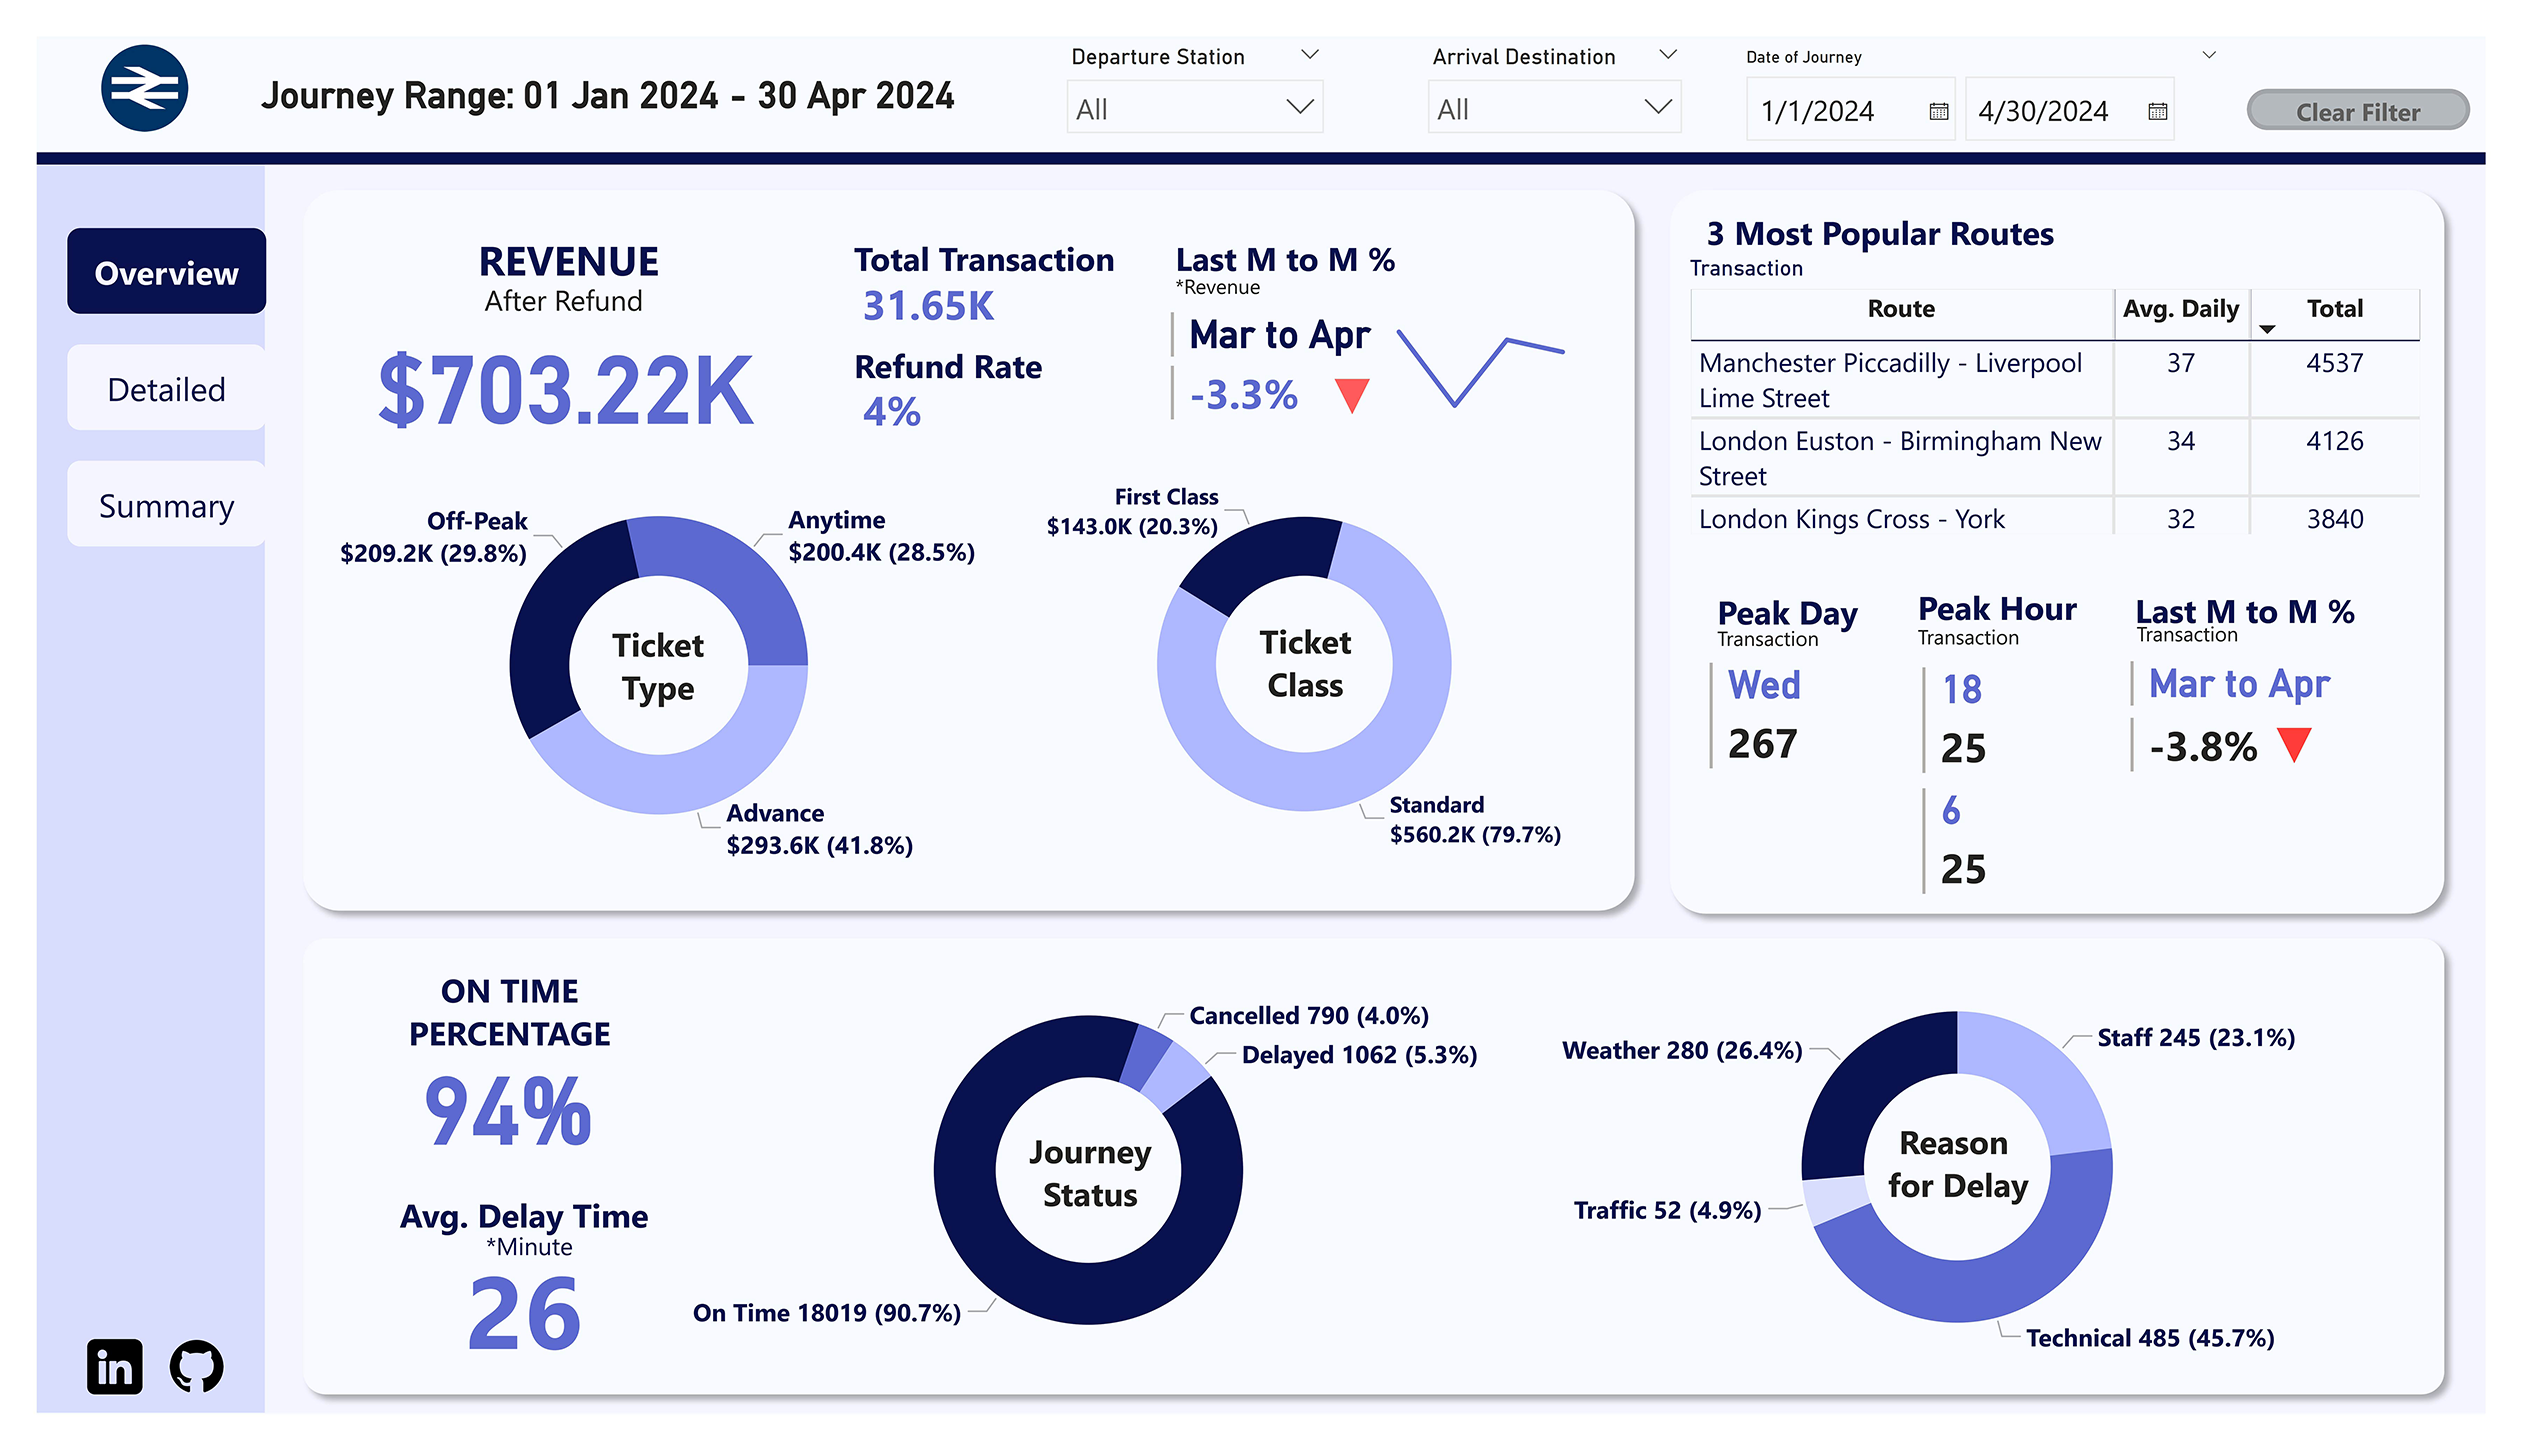

The page's visual inventory and layout, read from the dashboard file:
{"tool":"powerbi","page":{"name":"Overview","canvas":[1600,900],"ordinal":0},"visuals":[{"type":"slicer","title":"Departure Slicer","fields":{"Values":["railway.Departure Station"]},"box":[662.7,0,187.6,80.2],"z":0,"group":"g3"},{"type":"shape","title":"00. Shp. Background","box":[0,80.2,1600,819.2],"z":0},{"type":"textbox","box":[529.1,125.3,208.4,49.7],"z":0,"group":"g5"},{"type":"textbox","box":[739.1,125.3,169.9,43.3],"z":0,"group":"g7"},{"type":"tableEx","title":"Transaction","fields":{"Values":["railway.Route","railway.Customer_Route_Daily_Avg","railway.Customer_Total_order"]},"box":[1074.6,142.9,498.6,224.4],"z":0,"group":"g10"},{"type":"card","fields":{"Values":["railway.Total Income"]},"box":[195.2,155.4,300.1,134.7],"z":0,"group":"g13"},{"type":"textbox","box":[529.1,195,169.9,43.3],"z":0,"group":"g6"},{"type":"donutChart","title":"Ticket Type","fields":{"Category":["railway.Ticket Type"],"Y":["railway.Total Income"]},"box":[190.3,275.8,432.9,269.3],"z":0,"group":"g8"},{"type":"donutChart","title":"Ticket Class","fields":{"Category":["railway.Ticket Class"],"Y":["railway.Total Income"]},"box":[623.2,275.8,410.4,267.7],"z":0,"group":"g9"},{"type":"textbox","box":[1224.1,353.3,138.9,46.3],"z":0,"group":"g12"},{"type":"textbox","box":[1366.4,354.9,169.9,43.3],"z":0,"group":"g14"},{"type":"multiRowCard","fields":{"Values":["railway.Last_month"]},"box":[1363.2,403.4,208.8,38.8],"z":0,"group":"g2"},{"type":"multiRowCard","fields":{"Values":["railway.Journey Day","railway.Customer_Avg_Day"]},"box":[1087.8,404.3,155.2,143.6],"z":0,"group":"g11"},{"type":"textbox","title":"TXT ON-TIME Percentage","box":[197.2,602.8,224.4,77],"z":0,"group":"g15"},{"type":"donutChart","title":"Reason for Delay","fields":{"Category":["railway.Reason for Delay NEW"],"Y":["railway.TRIAL A"]},"box":[943.1,603.4,623.6,270.9],"z":0,"group":"g18"},{"type":"group","id":"g1","title":"Group 3","box":[405.2,605.2,563.8,270.7],"z":0,"group":"g17"},{"type":"donutChart","title":"Journey Status","fields":{"Category":["railway.Journey Status"],"Y":["railway.TRIAL A"]},"box":[405.2,605.2,564.3,270.9],"z":0,"group":"g1"},{"type":"textbox","title":"TXT Avh Delay time","box":[207.2,750,222.8,38.5],"z":0,"group":"g16"},{"type":"slicer","title":"Arrival Slicer","fields":{"Values":["railway.Arrival Destination"]},"box":[898.4,0,186,75.4],"z":1000,"group":"g3"},{"type":"shape","title":"00. Shp Side","box":[0,80.2,149.1,819.2],"z":1000},{"type":"textbox","box":[1085.8,107.9,304.6,40.1],"z":1000,"group":"g10"},{"type":"textbox","box":[274.5,122,146.6,51.7],"z":1000,"group":"g13"},{"type":"card","fields":{"Values":["Count(railway.Transaction ID)"]},"box":[529.1,144.5,107.4,62.5],"z":1000,"group":"g5"},{"type":"textbox","box":[739.1,149.3,121.8,33.7],"z":1000,"group":"g7"},{"type":"multiRowCard","fields":{"Values":["railway.refund_percent"]},"box":[540.3,220.7,115.4,54.5],"z":1000,"group":"g6"},{"type":"textbox","box":[1092.6,355.9,121.8,43.3],"z":1000,"group":"g11"},{"type":"textbox","box":[788.3,375.2,81.8,67.3],"z":1000,"group":"g9"},{"type":"textbox","box":[1367,376.1,121.8,33.3],"z":1000,"group":"g14"},{"type":"textbox","box":[365,376.8,81.8,67.3],"z":1000,"group":"g8"},{"type":"textbox","box":[1224.3,378.1,121.8,33.3],"z":1000,"group":"g12"},{"type":"multiRowCard","fields":{"Values":["railway.MoM% Last Transaction"]},"box":[1363.2,440.3,208.4,46.5],"z":1000,"group":"g2"},{"type":"card","fields":{"Values":["railway.OnTimePercentage"]},"box":[203.6,652.5,208.4,81.8],"z":1000,"group":"g15"},{"type":"textbox","box":[1193.2,702.8,125.1,70.5],"z":1000,"group":"g18"},{"type":"textbox","box":[637.7,707.8,102.6,67.3],"z":1000,"group":"g1"},{"type":"card","fields":{"Values":["railway.Average Delay"]},"box":[198.8,783.7,238.9,88.2],"z":1000,"group":"g16"},{"type":"shape","title":"00. Line","box":[0,33.7,1600,91.4],"z":1500},{"type":"image","title":"00. Image Logo","box":[33.7,0,73.7,67.3],"z":1750},{"type":"pageNavigator","title":"00. Page navigator","box":[19.7,125.4,131,210],"z":1875},{"type":"slicer","title":"Date Slicer","fields":{"Values":["railway.Date of Journey"]},"box":[1103.2,1.6,333.5,72.1],"z":2000,"group":"g3"},{"type":"multiRowCard","fields":{"Values":["railway.Last_month"]},"box":[735.9,175.4,208.8,38.8],"z":2000,"group":"g7"},{"type":"textbox","box":[1092.9,378.7,121.8,33.3],"z":2000,"group":"g11"},{"type":"group","id":"g2","title":"Group 2","box":[1363.2,403.4,208.8,83.4],"z":2000,"group":"g14"},{"type":"multiRowCard","fields":{"Values":["railway.Journey Hour TXT","railway.Customer_Avg_Day"]},"box":[1226.6,406.9,150.7,184.4],"z":2000,"group":"g12"},{"type":"textbox","title":"TXT Avh Delay time","box":[210.4,774,222.8,38.5],"z":2000,"group":"g16"},{"type":"image","title":"00. Linkedin","box":[26.8,846.5,47.9,45.1],"z":2000},{"type":"actionButton","title":"Reset Button","box":[1443.5,33.7,145.9,27.3],"z":3000,"group":"g3"},{"type":"multiRowCard","fields":{"Values":["railway.MoM% Last Revenue"]},"box":[735.9,210,209.1,47.5],"z":3000,"group":"g7"},{"type":"card","title":"Arrow","fields":{"Values":["railway.arrow_%Transaction"]},"box":[1427.3,423.8,96.2,75.4],"z":3000,"group":"g14"},{"type":"image","title":"00. Github","box":[81.7,842.3,45.1,52.1],"z":3000},{"type":"group","id":"g3","title":"00. GR. Filter","box":[662.7,0,926.7,80.2],"z":3500},{"type":"card","title":"00. Disp. Journey Range","fields":{"Values":["railway.filtered_date"]},"box":[113.8,3.2,519.4,67.3],"z":3750},{"type":"shape","title":"01. Shp","box":[165.1,91.4,888.2,489],"z":4000},{"type":"lineChart","fields":{"Y":["railway.Total Income"],"Category":["railway.Date of Journey.Variation.Date Hierarchy.Year","railway.Date of Journey.Variation.Date Hierarchy.Month"]},"box":[875.4,177,136.3,72.1],"z":4000,"group":"g7"},{"type":"shape","title":"02. Shp.","box":[1058.1,91.4,524.2,490.6],"z":5000},{"type":"card","fields":{"Values":["railway.arrowup_%Revenue"]},"box":[811.3,196.2,96.2,75.4],"z":5000,"group":"g7"},{"type":"shape","title":"03. Shp","box":[165.1,580.4,1417.2,315.8],"z":6000},{"type":"group","id":"g4","title":"01. Card Revenue","box":[195.2,122,300.1,168.1],"z":9000},{"type":"group","id":"g5","title":"01. Card Total Trans","box":[529.1,125.3,208.4,81.8],"z":10500},{"type":"group","id":"g6","title":"01. Card Refund Rate","box":[529.1,195,169.9,80.2],"z":11250},{"type":"group","id":"g7","title":"01. GR. MtoM% Rev","box":[735.9,125.3,275.8,145.9],"z":11625},{"type":"group","id":"g8","title":"01. Pie Ticket Type","box":[190.3,275.8,432.9,269.3],"z":11812},{"type":"group","id":"g9","title":"01. Pie Ticket Class","box":[623.2,275.8,410.4,267.7],"z":11906},{"type":"group","id":"g10","title":"02. Tb. 3 Most Popular Routes","box":[1074.6,107.9,498.6,259.4],"z":12000},{"type":"group","id":"g11","title":"02. Card Peak Day","box":[1087.8,355.9,155.2,192.1],"z":13000},{"type":"group","id":"g12","title":"02.. Card Peak Hour","box":[1224.1,353.3,153.2,237.9],"z":14000},{"type":"group","id":"g13","title":"GR. Revenue","box":[195.2,122,300.1,168.1],"z":15000,"group":"g4"},{"type":"group","id":"g14","title":"02. Card MtoM% Transa","box":[1363.2,354.9,208.8,144.3],"z":16000},{"type":"group","id":"g15","title":"03. Card On-Time Percent","box":[197.2,602.8,224.4,131.5],"z":18000},{"type":"group","id":"g16","title":"03. Card Avg Delay Time","box":[198.8,750,238.9,121.8],"z":19000},{"type":"group","id":"g17","title":"03. Pie Journey Status","box":[405.2,605.2,563.8,270.7],"z":21000},{"type":"textbox","box":[272,153.6,144.8,43.1],"z":21003,"group":"g4"},{"type":"group","id":"g18","title":"03. Pie Reason Delay","box":[943.1,603.4,624.1,270.7],"z":23000}]}

Visuals, with their boxes in screenshot pixels (x1, y1, x2, y2), scaled from the page's 1600x900 canvas onto the 2523x1452 screenshot:
"Departure Slicer" slicer: {"left": 1045, "top": 0, "right": 1341, "bottom": 129}
"00. Shp. Background" shape: {"left": 0, "top": 129, "right": 2522, "bottom": 1451}
textbox: {"left": 834, "top": 202, "right": 1163, "bottom": 282}
textbox: {"left": 1165, "top": 202, "right": 1433, "bottom": 272}
"Transaction" tableEx: {"left": 1695, "top": 231, "right": 2481, "bottom": 593}
card - railway.Total Income: {"left": 308, "top": 251, "right": 781, "bottom": 468}
textbox: {"left": 834, "top": 315, "right": 1102, "bottom": 384}
"Ticket Type" donutChart: {"left": 300, "top": 445, "right": 983, "bottom": 879}
"Ticket Class" donutChart: {"left": 983, "top": 445, "right": 1630, "bottom": 877}
textbox: {"left": 1930, "top": 570, "right": 2149, "bottom": 645}
textbox: {"left": 2155, "top": 573, "right": 2423, "bottom": 642}
multiRowCard - railway.Last_month: {"left": 2150, "top": 651, "right": 2479, "bottom": 713}
multiRowCard - railway.Journey Day x railway.Customer_Avg_Day: {"left": 1715, "top": 652, "right": 1960, "bottom": 884}
"TXT ON-TIME Percentage" textbox: {"left": 311, "top": 973, "right": 665, "bottom": 1097}
"Reason for Delay" donutChart: {"left": 1487, "top": 973, "right": 2470, "bottom": 1411}
"Group 3" group: {"left": 639, "top": 976, "right": 1528, "bottom": 1413}
"Journey Status" donutChart: {"left": 639, "top": 976, "right": 1529, "bottom": 1413}
"TXT Avh Delay time" textbox: {"left": 327, "top": 1210, "right": 678, "bottom": 1272}
"Arrival Slicer" slicer: {"left": 1417, "top": 0, "right": 1710, "bottom": 122}
"00. Shp Side" shape: {"left": 0, "top": 129, "right": 235, "bottom": 1451}
textbox: {"left": 1712, "top": 174, "right": 2192, "bottom": 239}
textbox: {"left": 433, "top": 197, "right": 664, "bottom": 280}
card - Count(railway.Transaction ID): {"left": 834, "top": 233, "right": 1004, "bottom": 334}
textbox: {"left": 1165, "top": 241, "right": 1358, "bottom": 295}
multiRowCard - railway.refund_percent: {"left": 852, "top": 356, "right": 1034, "bottom": 444}
textbox: {"left": 1723, "top": 574, "right": 1915, "bottom": 644}
textbox: {"left": 1243, "top": 605, "right": 1372, "bottom": 714}
textbox: {"left": 2156, "top": 607, "right": 2348, "bottom": 660}
textbox: {"left": 576, "top": 608, "right": 705, "bottom": 716}
textbox: {"left": 1931, "top": 610, "right": 2123, "bottom": 664}
multiRowCard - railway.MoM% Last Transaction: {"left": 2150, "top": 710, "right": 2478, "bottom": 785}
card - railway.OnTimePercentage: {"left": 321, "top": 1053, "right": 650, "bottom": 1185}
textbox: {"left": 1882, "top": 1134, "right": 2079, "bottom": 1248}
textbox: {"left": 1006, "top": 1142, "right": 1167, "bottom": 1250}
card - railway.Average Delay: {"left": 313, "top": 1264, "right": 690, "bottom": 1407}
"00. Line" shape: {"left": 0, "top": 54, "right": 2522, "bottom": 202}
"00. Image Logo" image: {"left": 53, "top": 0, "right": 169, "bottom": 109}
"00. Page navigator" pageNavigator: {"left": 31, "top": 202, "right": 238, "bottom": 541}
"Date Slicer" slicer: {"left": 1740, "top": 3, "right": 2265, "bottom": 119}
multiRowCard - railway.Last_month: {"left": 1160, "top": 283, "right": 1490, "bottom": 346}
textbox: {"left": 1723, "top": 611, "right": 1915, "bottom": 665}
"Group 2" group: {"left": 2150, "top": 651, "right": 2479, "bottom": 785}
multiRowCard - railway.Journey Hour TXT x railway.Customer_Avg_Day: {"left": 1934, "top": 656, "right": 2172, "bottom": 954}
"TXT Avh Delay time" textbox: {"left": 332, "top": 1249, "right": 683, "bottom": 1311}
"00. Linkedin" image: {"left": 42, "top": 1366, "right": 118, "bottom": 1438}
"Reset Button" actionButton: {"left": 2276, "top": 54, "right": 2506, "bottom": 98}
multiRowCard - railway.MoM% Last Revenue: {"left": 1160, "top": 339, "right": 1490, "bottom": 415}
"Arrow" card: {"left": 2251, "top": 684, "right": 2402, "bottom": 805}
"00. Github" image: {"left": 129, "top": 1359, "right": 200, "bottom": 1443}
"00. GR. Filter" group: {"left": 1045, "top": 0, "right": 2506, "bottom": 129}
"00. Disp. Journey Range" card: {"left": 179, "top": 5, "right": 998, "bottom": 114}
"01. Shp" shape: {"left": 260, "top": 147, "right": 1661, "bottom": 936}
lineChart - railway.Total Income x railway.Date of Journey.Variation.Date Hierarchy.Year: {"left": 1380, "top": 286, "right": 1595, "bottom": 402}
"02. Shp." shape: {"left": 1668, "top": 147, "right": 2495, "bottom": 939}
card - railway.arrowup_%Revenue: {"left": 1279, "top": 317, "right": 1431, "bottom": 438}
"03. Shp" shape: {"left": 260, "top": 936, "right": 2495, "bottom": 1446}
"01. Card Revenue" group: {"left": 308, "top": 197, "right": 781, "bottom": 468}
"01. Card Total Trans" group: {"left": 834, "top": 202, "right": 1163, "bottom": 334}
"01. Card Refund Rate" group: {"left": 834, "top": 315, "right": 1102, "bottom": 444}
"01. GR. MtoM% Rev" group: {"left": 1160, "top": 202, "right": 1595, "bottom": 438}
"01. Pie Ticket Type" group: {"left": 300, "top": 445, "right": 983, "bottom": 879}
"01. Pie Ticket Class" group: {"left": 983, "top": 445, "right": 1630, "bottom": 877}
"02. Tb. 3 Most Popular Routes" group: {"left": 1695, "top": 174, "right": 2481, "bottom": 593}
"02. Card Peak Day" group: {"left": 1715, "top": 574, "right": 1960, "bottom": 884}
"02.. Card Peak Hour" group: {"left": 1930, "top": 570, "right": 2172, "bottom": 954}
"GR. Revenue" group: {"left": 308, "top": 197, "right": 781, "bottom": 468}
"02. Card MtoM% Transa" group: {"left": 2150, "top": 573, "right": 2479, "bottom": 805}
"03. Card On-Time Percent" group: {"left": 311, "top": 973, "right": 665, "bottom": 1185}
"03. Card Avg Delay Time" group: {"left": 313, "top": 1210, "right": 690, "bottom": 1407}
"03. Pie Journey Status" group: {"left": 639, "top": 976, "right": 1528, "bottom": 1413}
textbox: {"left": 429, "top": 248, "right": 657, "bottom": 317}
"03. Pie Reason Delay" group: {"left": 1487, "top": 973, "right": 2471, "bottom": 1410}
